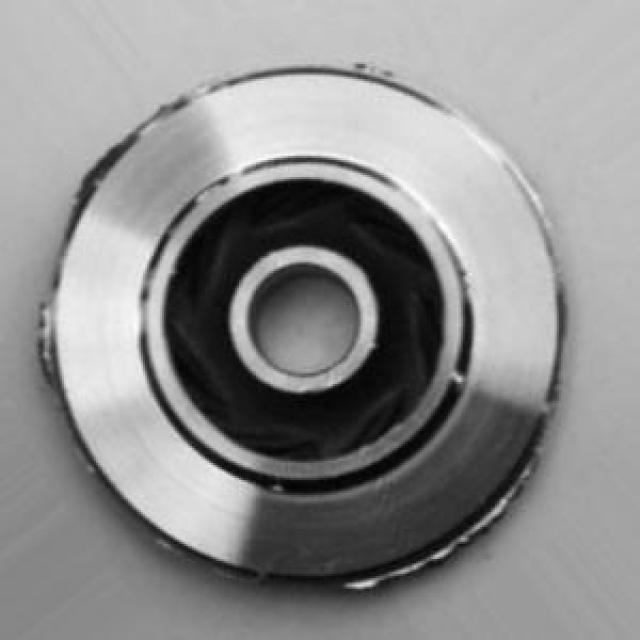Defect: (452, 493, 521, 546)
